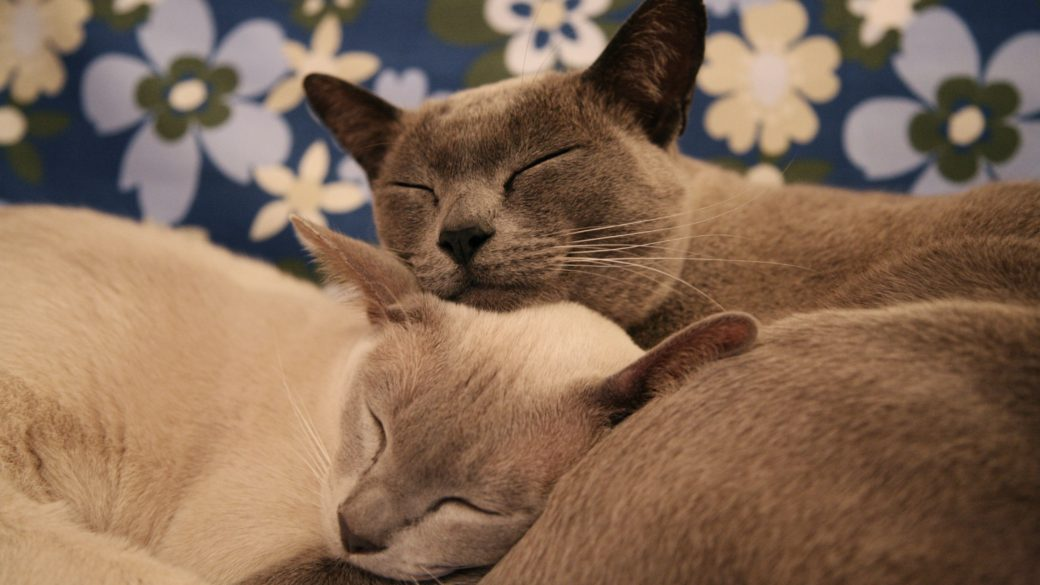cat: (274, 2, 1040, 585), (1, 187, 772, 585)
